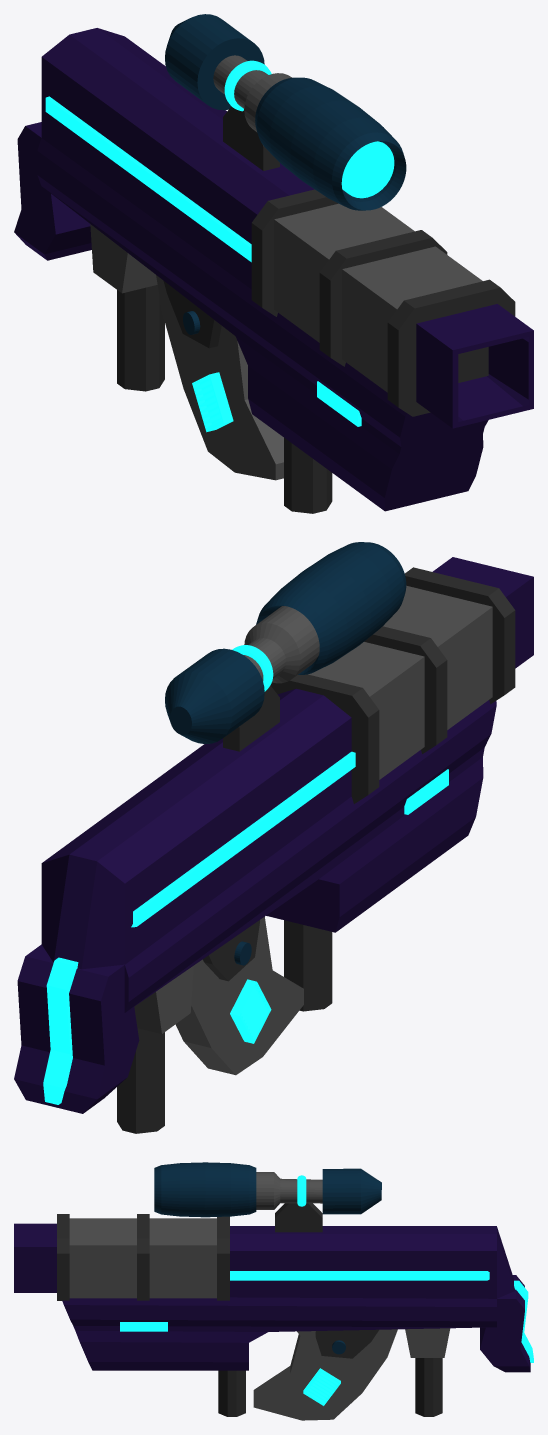
The model's file is Weapon02-Blitz.fbx.
3 renders of one model, top to bottom at view 1: azimuth 30°, elevation 25°; view 2: azimuth 150°, elevation 25°; view 3: azimuth 270°, elevation 25°, orthographic. The views are drawn at different scales.
Parts seen in each view (by area): view 1: Cube.017; view 2: Cube.017; view 3: Cube.017.
Part boxes in pixels (box(x1,y1,x2,y2)): Cube.017: box(14, 14, 533, 513); Cube.017: box(14, 542, 533, 1133); Cube.017: box(14, 1162, 533, 1420).
Bounding box in the file's own units: 34.67 × 121 × 227.
